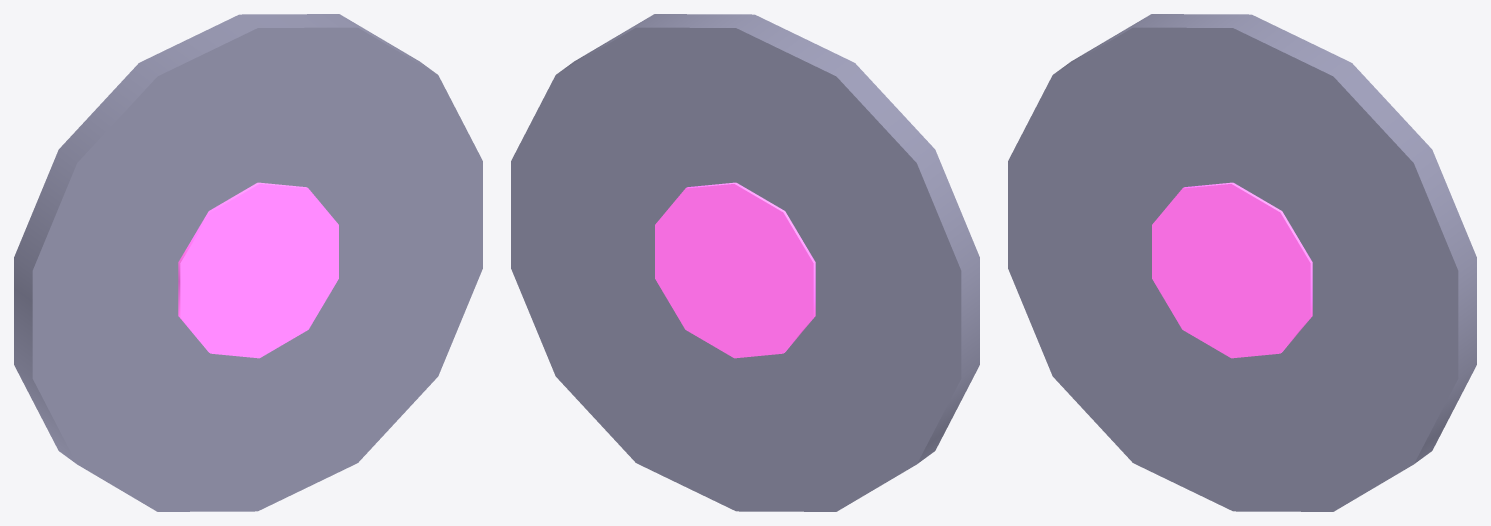
Rendered from turntable.glb.
3 renders of one model, left to right at view 1: azimuth 30°, elevation 25°; view 2: azimuth 150°, elevation 25°; view 3: azimuth 330°, elevation 25°, orthographic.
Bounding box in the file's own units: 0.7019 × 0.72 × 0.06.
